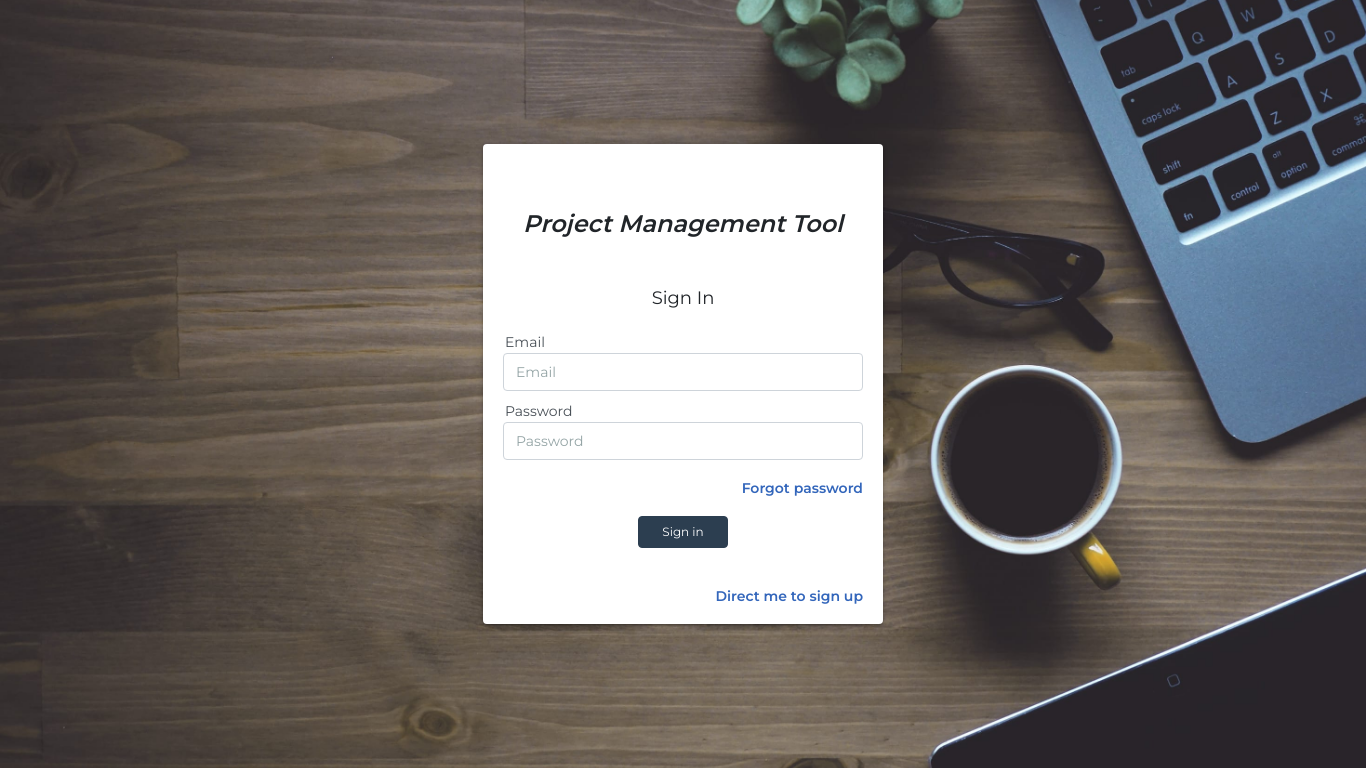
Login › Form inputs not filled
This screenshot has width=1366, height=768.
Focus the field named "email" at [683, 372], box [503,353,863,391]
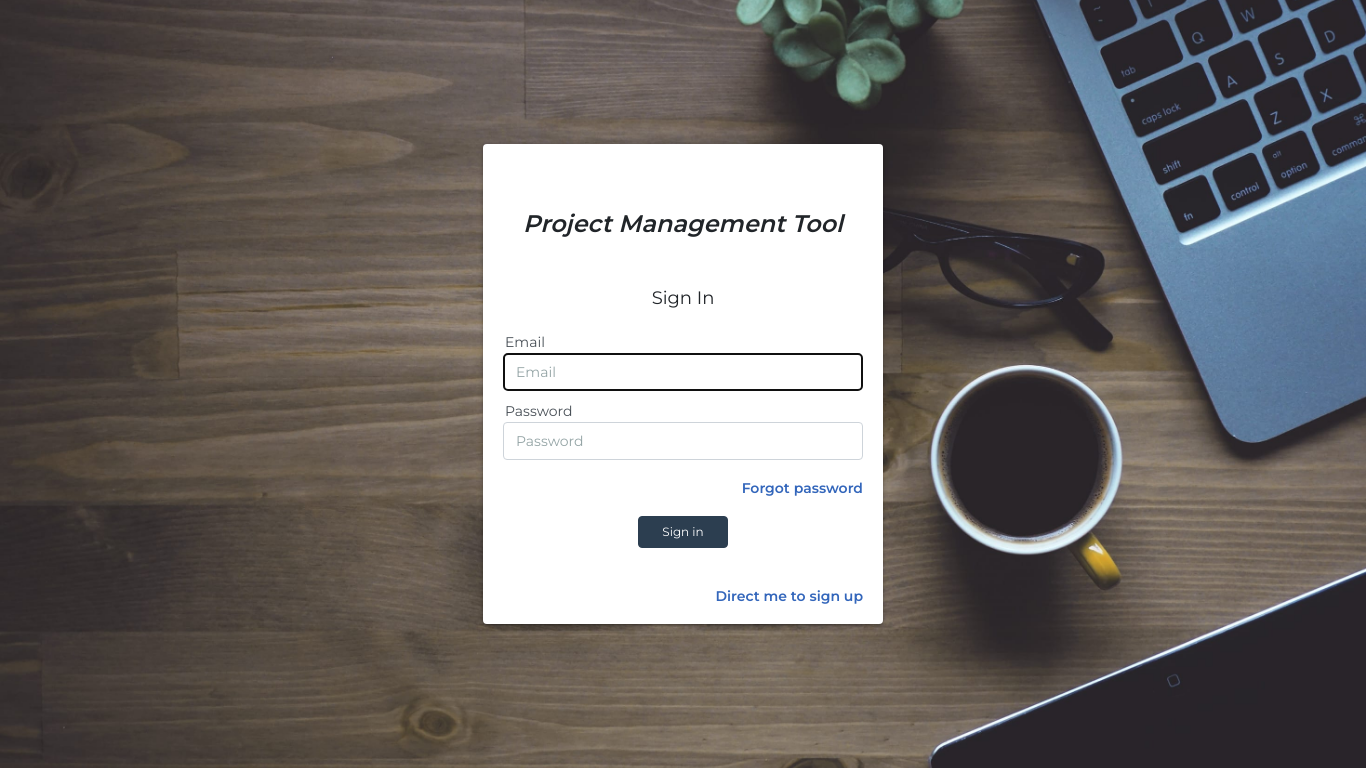
Focus the password field named "password" at [683, 441], box [503,422,863,460]
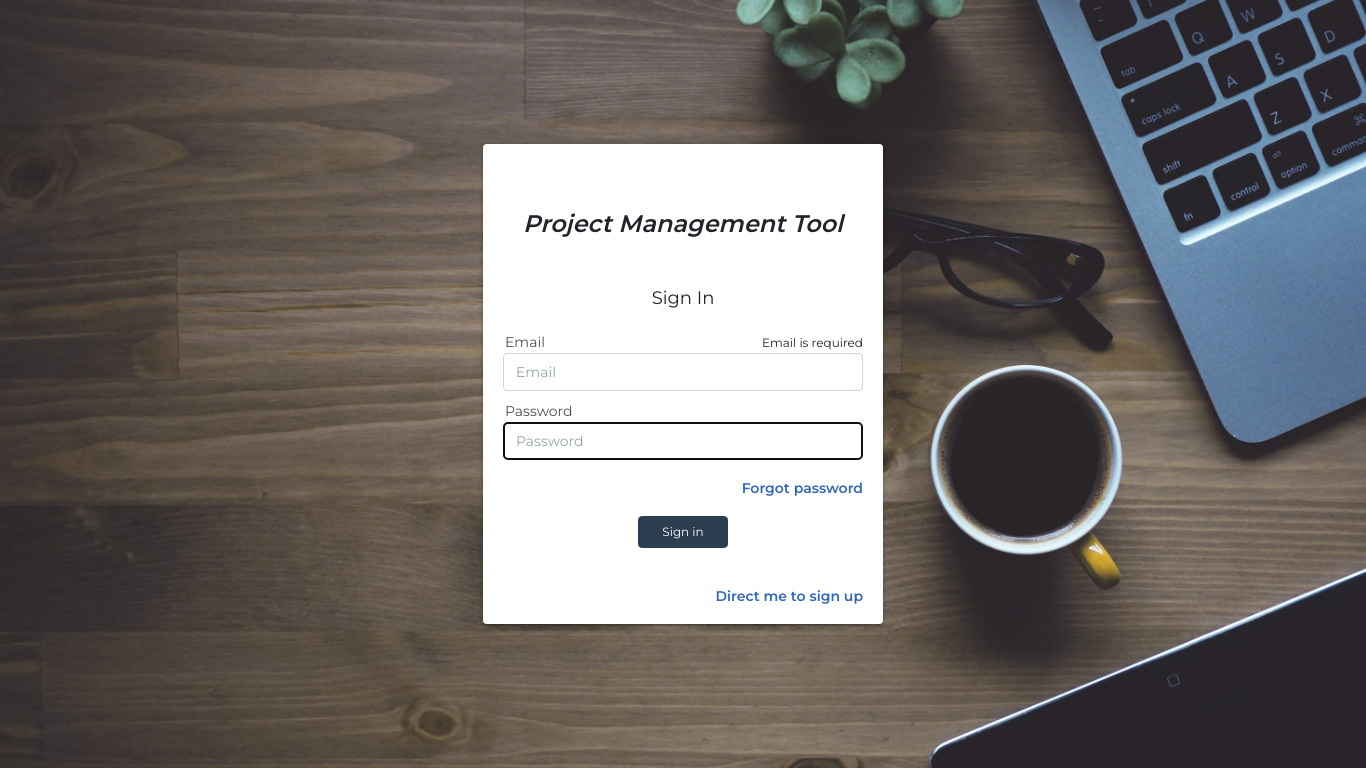
Click the submit button at [683, 532], box [638,516,728,548]
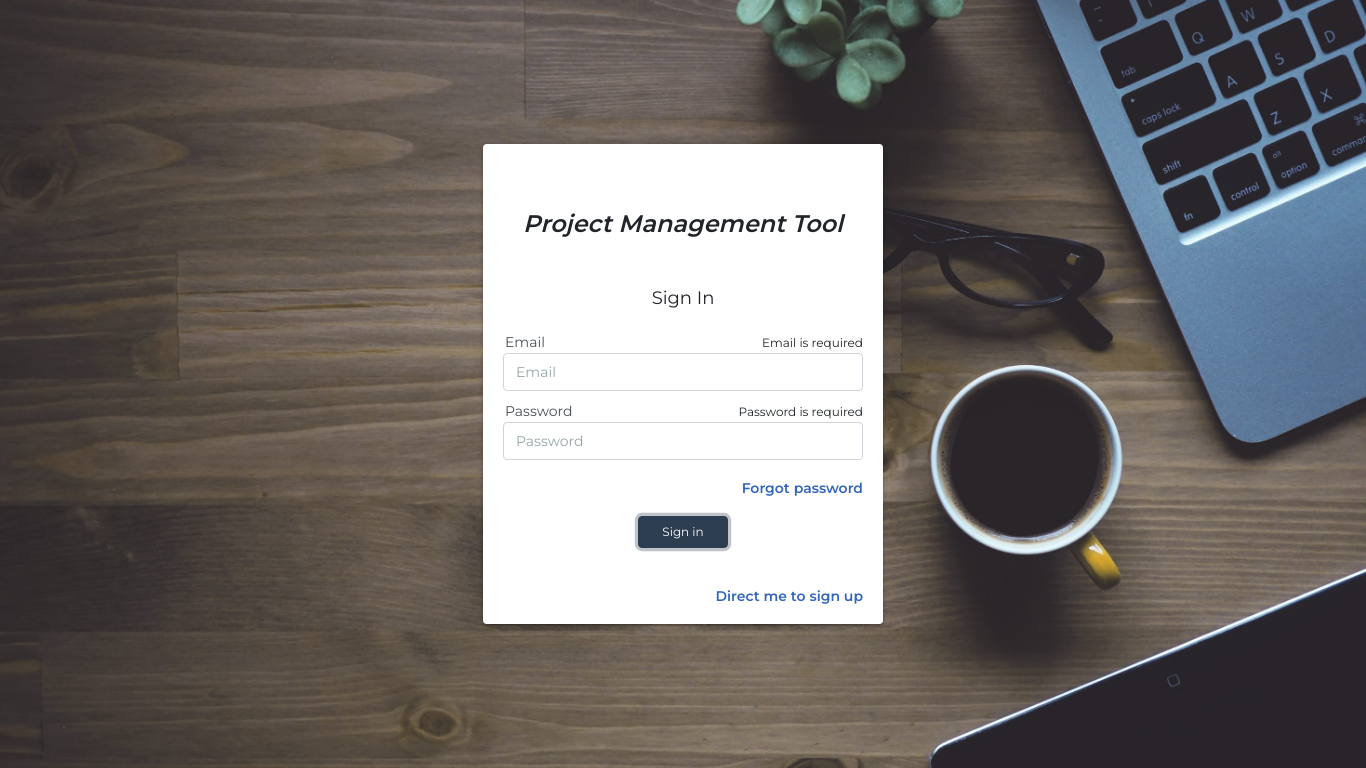
Check: the text "Email is required" is shown, box [762,334,863,352]
Check: the text "Password is required" is shown, box [738,403,863,421]
